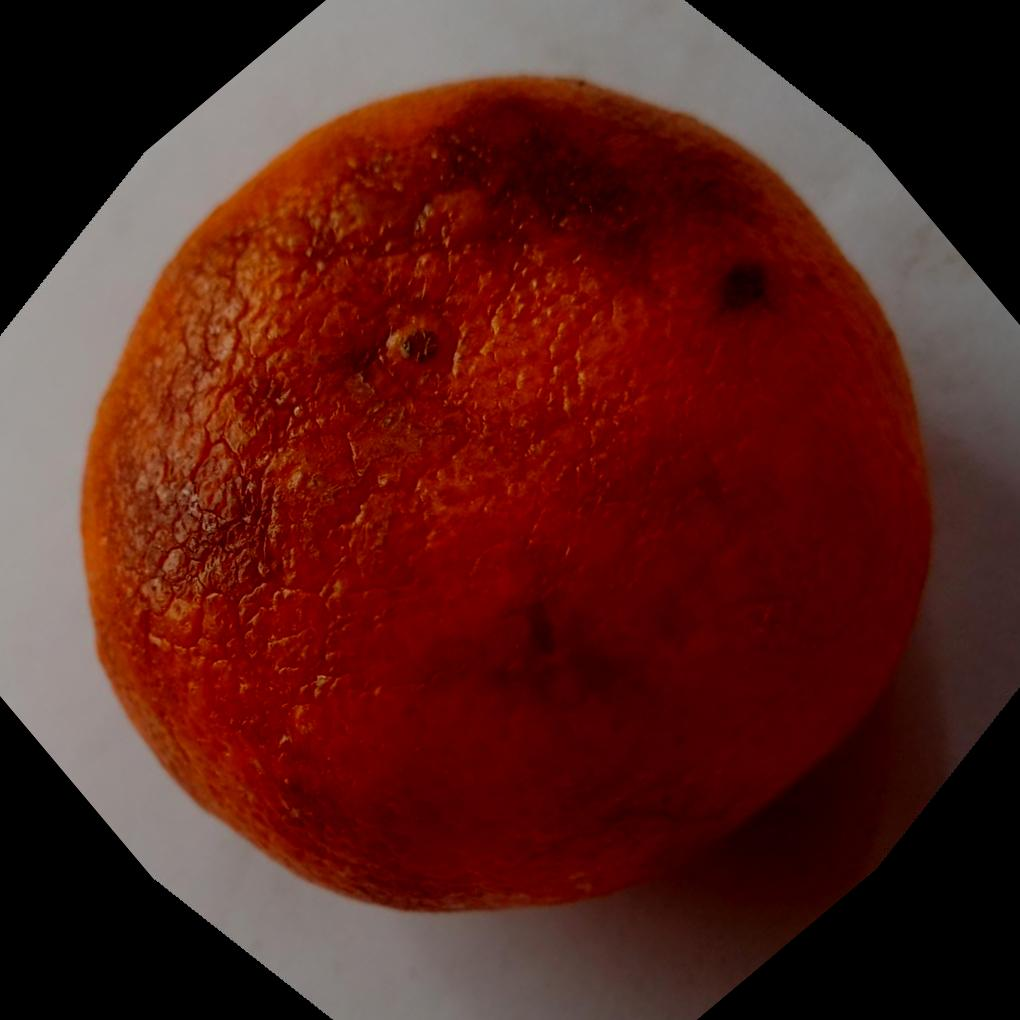FreshOrange: (77, 73, 937, 920)
